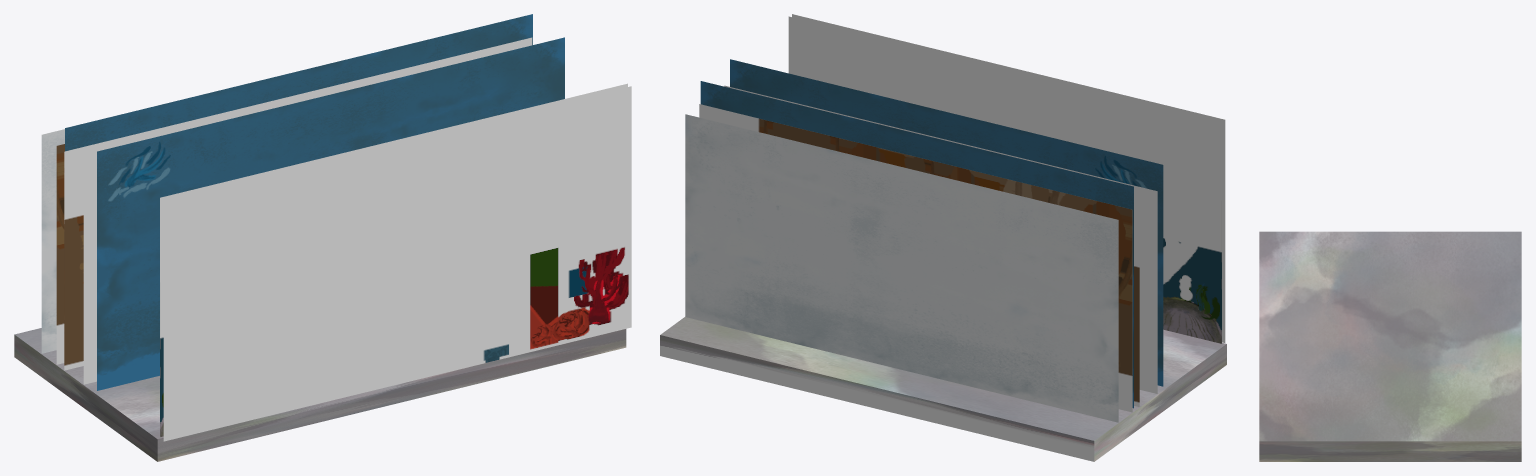
Rendered from Enviro.fbx.
3 views of the same model, side by side, from view 1: azimuth 30°, elevation 25°; view 2: azimuth 150°, elevation 25°; view 3: azimuth 270°, elevation 25° (orthographic). The views are drawn at different scales.
Parts seen in each view (by area): view 1: Front_coral, Small_fish_2, Floor, Small_fish_1, Far_seaweed2, Backdrop, Fish_2, Rock1, Far_seaweed; view 2: Backdrop, Rock1, Floor, Small_fish_2, Small_fish_1, Far_seaweed, Fish_2, Front_coral, Far_seaweed2; view 3: Floor.
Boxes of the visible parts, x1,y1,x2,y2 form: Front_coral: [163, 86, 631, 441]; Small_fish_2: [97, 37, 564, 390]; Floor: [14, 328, 626, 461]; Small_fish_1: [65, 14, 532, 151]; Far_seaweed2: [64, 37, 532, 370]; Backdrop: [41, 129, 64, 353]; Fish_2: [83, 162, 96, 384]; Rock1: [160, 83, 627, 437]; Far_seaweed: [56, 144, 64, 364]; Backdrop: [685, 114, 1118, 422]; Rock1: [788, 16, 1221, 343]; Floor: [660, 317, 1226, 461]; Small_fish_2: [730, 59, 1163, 386]; Small_fish_1: [700, 81, 1133, 408]; Far_seaweed: [699, 104, 1132, 412]; Fish_2: [724, 85, 1157, 393]; Front_coral: [792, 14, 1225, 342]; Far_seaweed2: [1134, 203, 1139, 406]; Floor: [1259, 231, 1521, 461].
Size of the model in its own units: 285 by 152 by 152.
